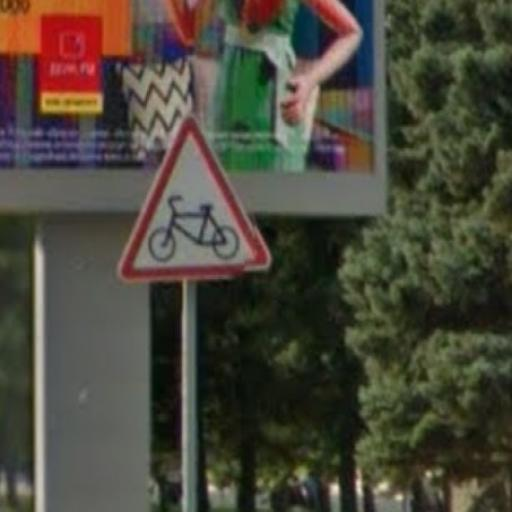traffic_sign: (117, 114, 275, 284)
